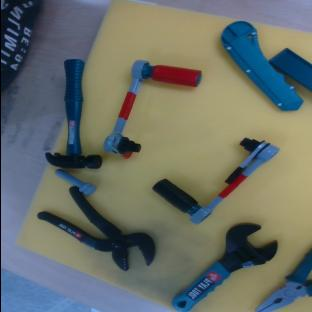non_pass: (150, 107, 279, 231)
pass: (77, 34, 205, 167)
